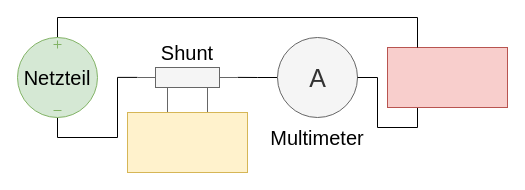
This 525x190 diagram has some shape labels left out. Each missing label, with the centre of its shape:
"ADS1115" belongs at point 187,142.
"elektronische Last" belongs at point 447,77.
